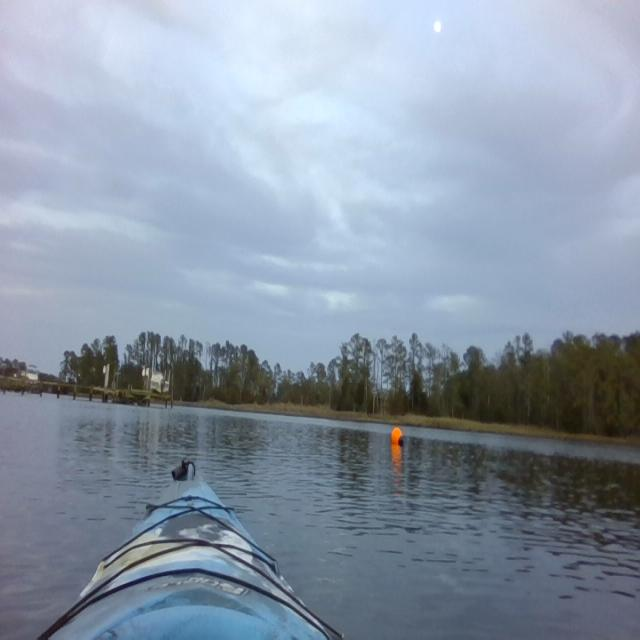Buoy: (390, 426, 406, 448)
